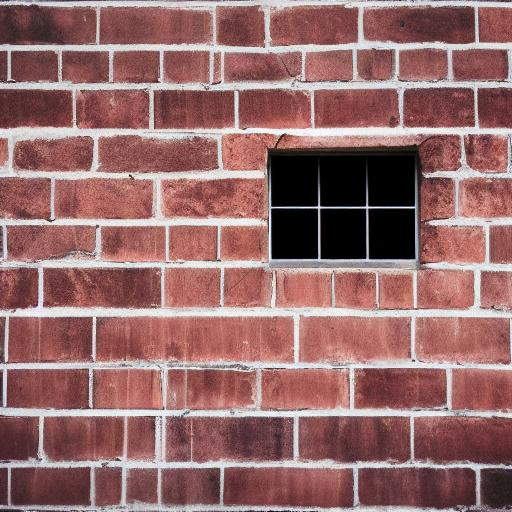Window: (264, 148, 425, 272)
